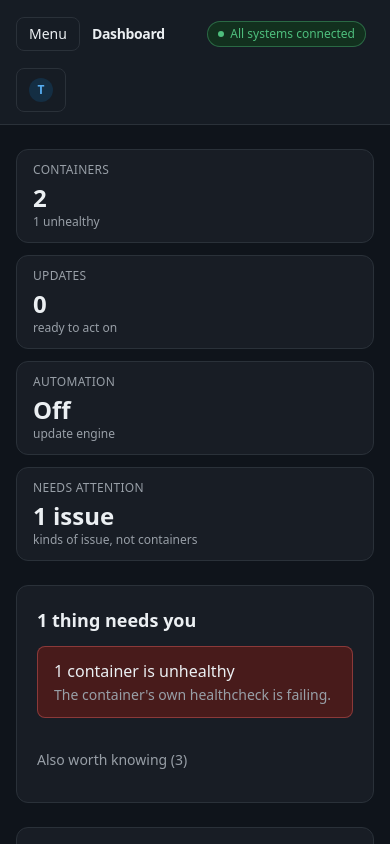
App shell › exposes a mobile navigation toggle
Click the button "Menu" at (48, 34), box [16,17,80,51]
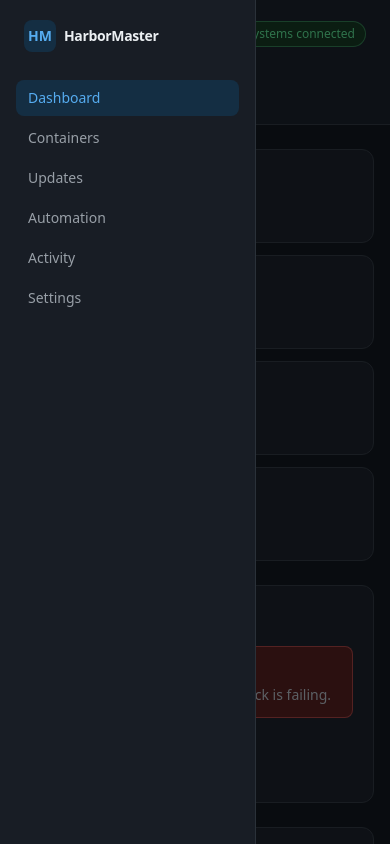
Now the button "Menu" is expanded, box [16,17,80,51]
